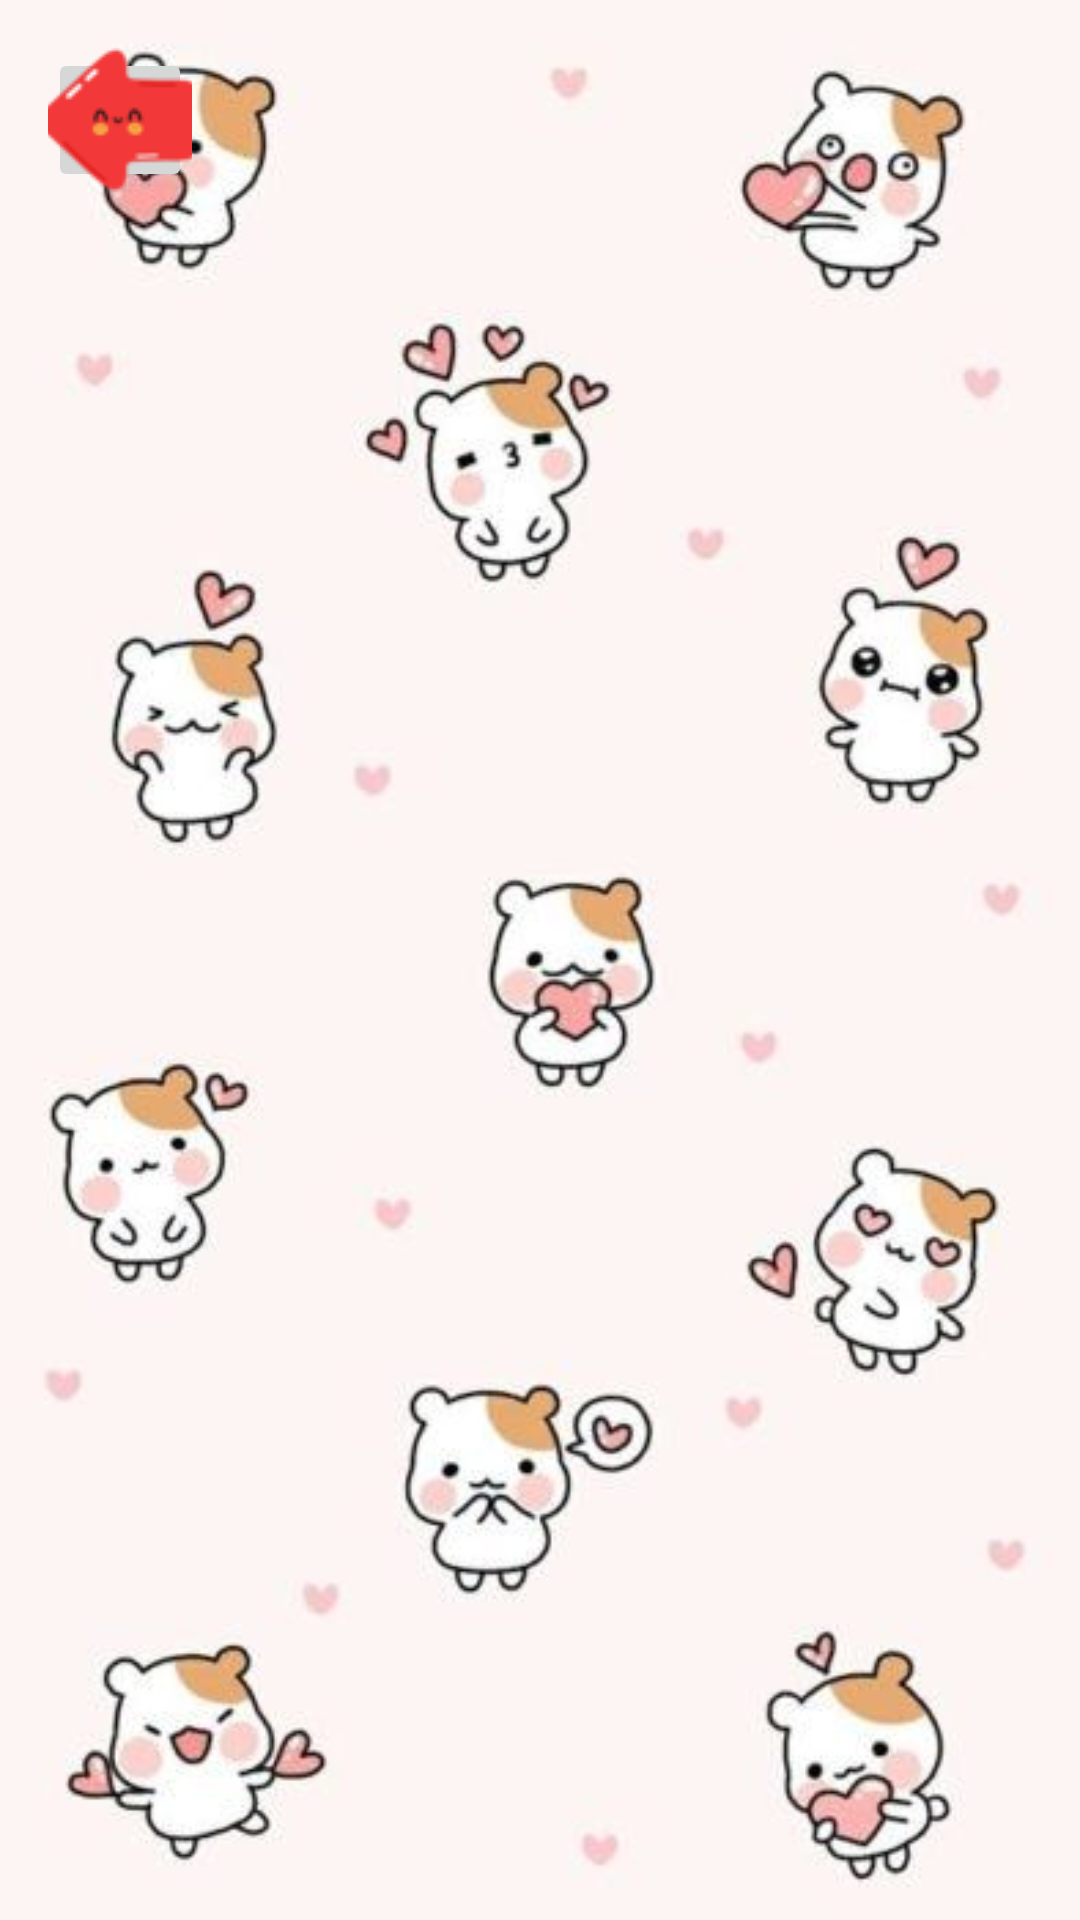

Icon bounding boxes for this 1080w x 1920h phone screenshot, format [left=x1, top=y1, right=x2, bottom=y2]:
Volver: [left=48, top=48, right=192, bottom=192]
